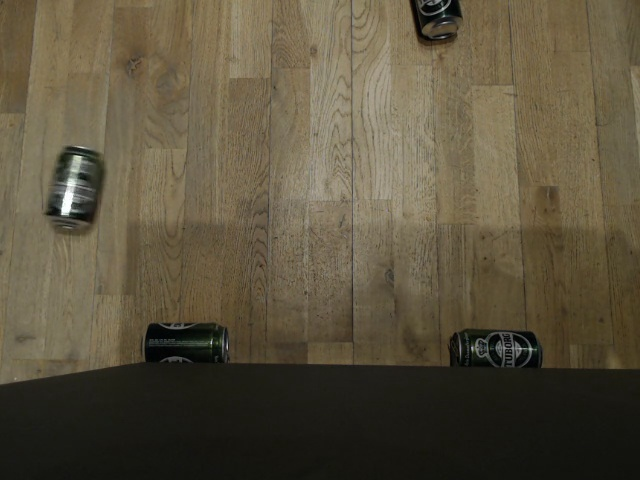beer: (44, 144, 104, 234)
